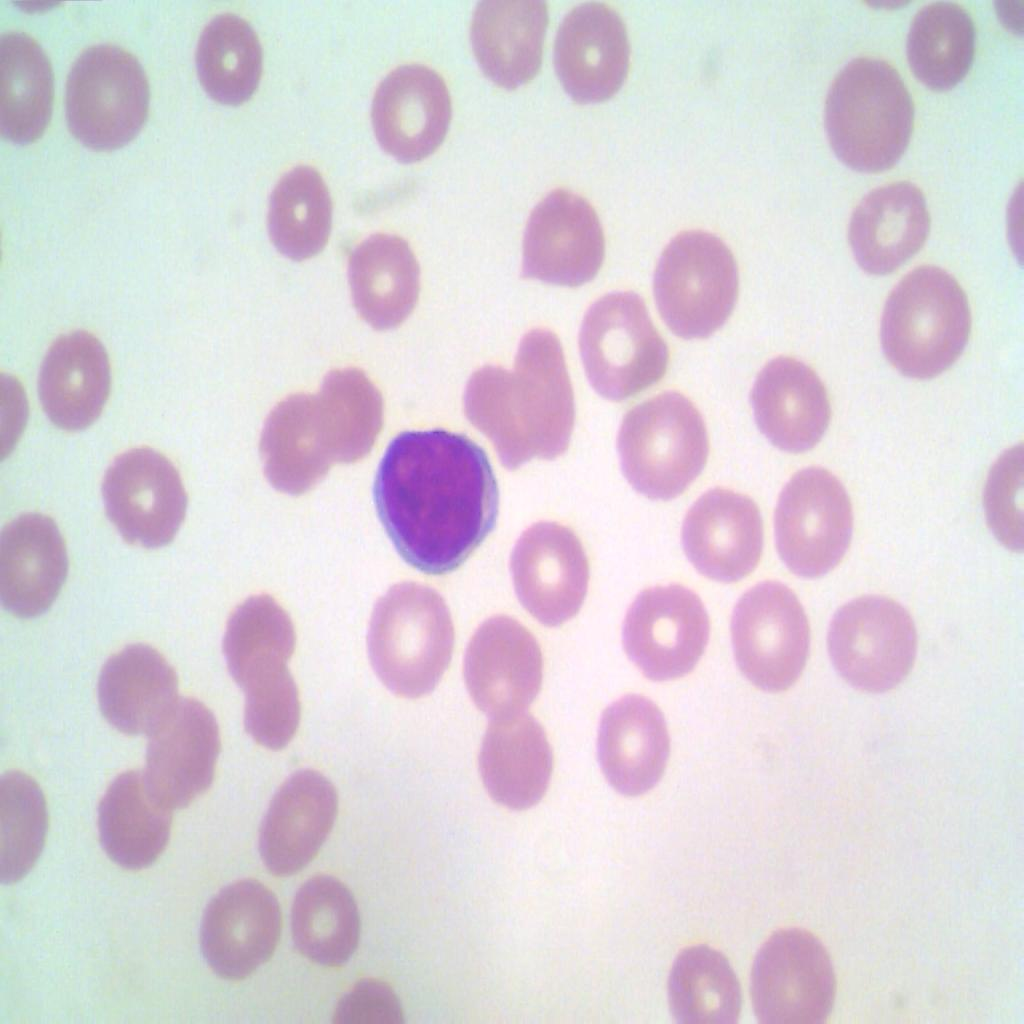Eritrosit: (58, 38, 158, 166), (246, 374, 338, 506), (820, 58, 918, 178), (822, 586, 926, 698), (99, 431, 189, 559), (508, 177, 609, 291), (878, 264, 972, 385), (584, 678, 678, 797), (506, 515, 600, 632), (364, 61, 462, 172), (368, 574, 451, 702), (196, 867, 286, 985), (714, 586, 814, 692), (580, 278, 670, 395), (506, 328, 584, 458), (306, 360, 398, 470), (138, 691, 219, 812), (668, 482, 763, 585), (459, 607, 546, 719), (542, 1, 635, 104), (35, 328, 119, 442), (772, 468, 850, 589), (455, 349, 533, 470), (658, 228, 742, 340), (284, 870, 369, 980), (746, 912, 830, 1023), (474, 708, 558, 818), (620, 581, 706, 688), (258, 760, 338, 874), (211, 589, 301, 690), (338, 234, 426, 337), (88, 774, 174, 879), (623, 395, 706, 500), (254, 156, 332, 266), (0, 506, 74, 620), (839, 178, 931, 269), (95, 641, 181, 735), (190, 8, 266, 111), (750, 354, 826, 456), (233, 644, 303, 754), (0, 29, 58, 161), (664, 928, 742, 1023), (895, 0, 976, 91), (473, 0, 548, 91), (0, 770, 48, 897)
Limfoblast: (376, 418, 508, 588)
